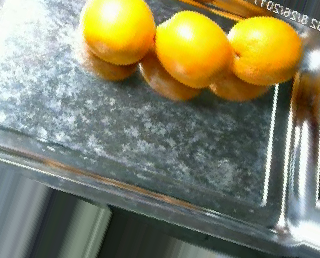Orange: (154, 9, 232, 86), (226, 14, 301, 85), (79, 1, 157, 66)
